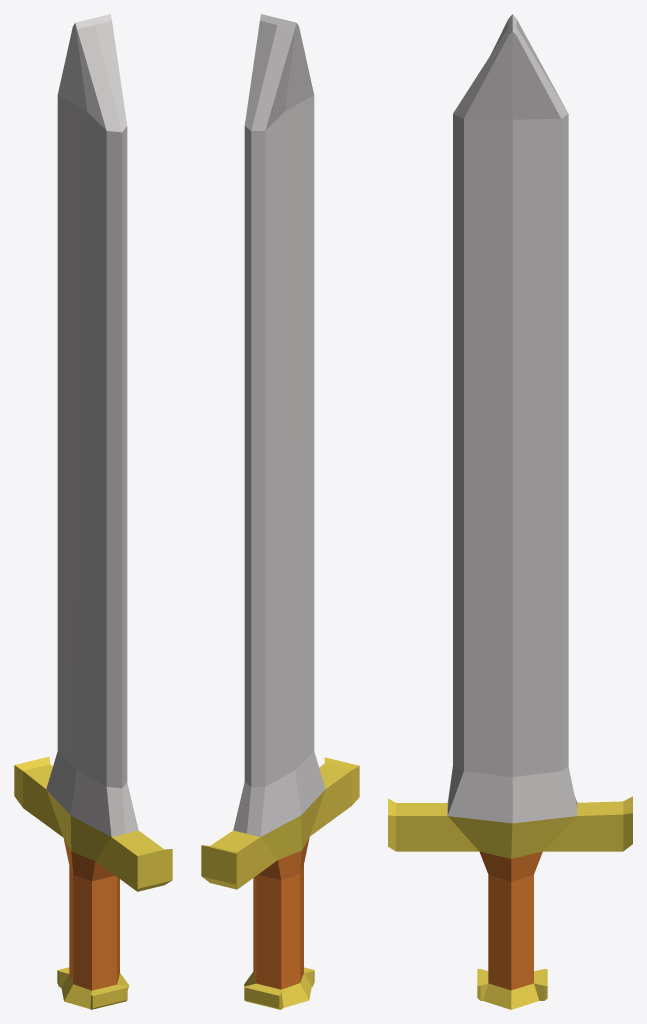
The model's file is swordex.fbx.
3 renders of one model, left to right at view 1: azimuth 30°, elevation 25°; view 2: azimuth 150°, elevation 25°; view 3: azimuth 270°, elevation 25°, orthographic.
Visible parts, largest first — view 1: Cube; view 2: Cube; view 3: Cube.
Boxes of the visible parts, x1,y1,x2,y2 form: Cube: (14,14,172,1009); Cube: (201,14,359,1009); Cube: (388,14,632,1009).
Size of the model in its own units: 46.18 by 659 by 151.
